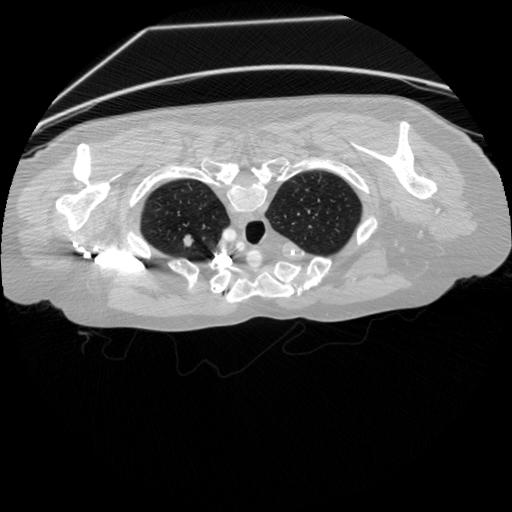nodule: (181, 234, 198, 251)
